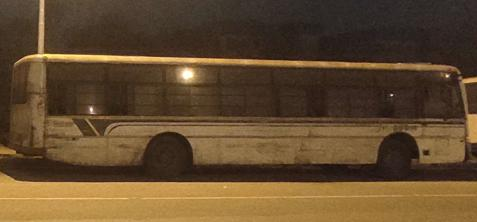Bus: (9, 52, 473, 180)
